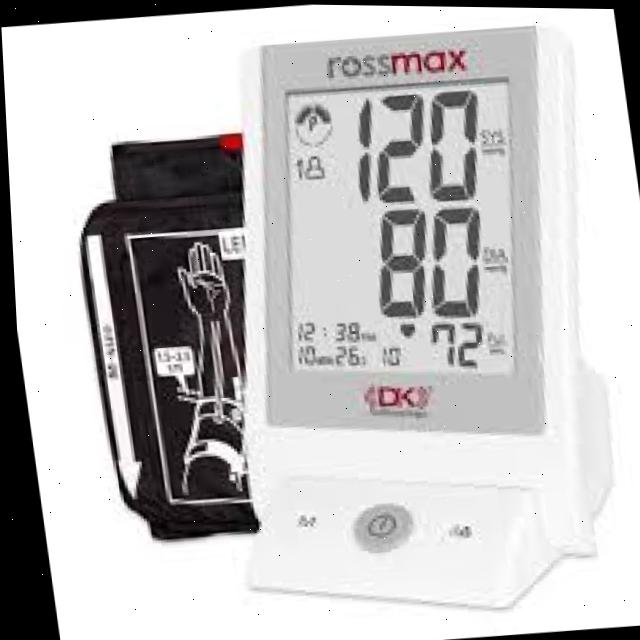dia: (357, 199, 490, 321)
pul: (418, 317, 507, 373)
ssd: (282, 77, 510, 377)
sys: (338, 82, 490, 206)
